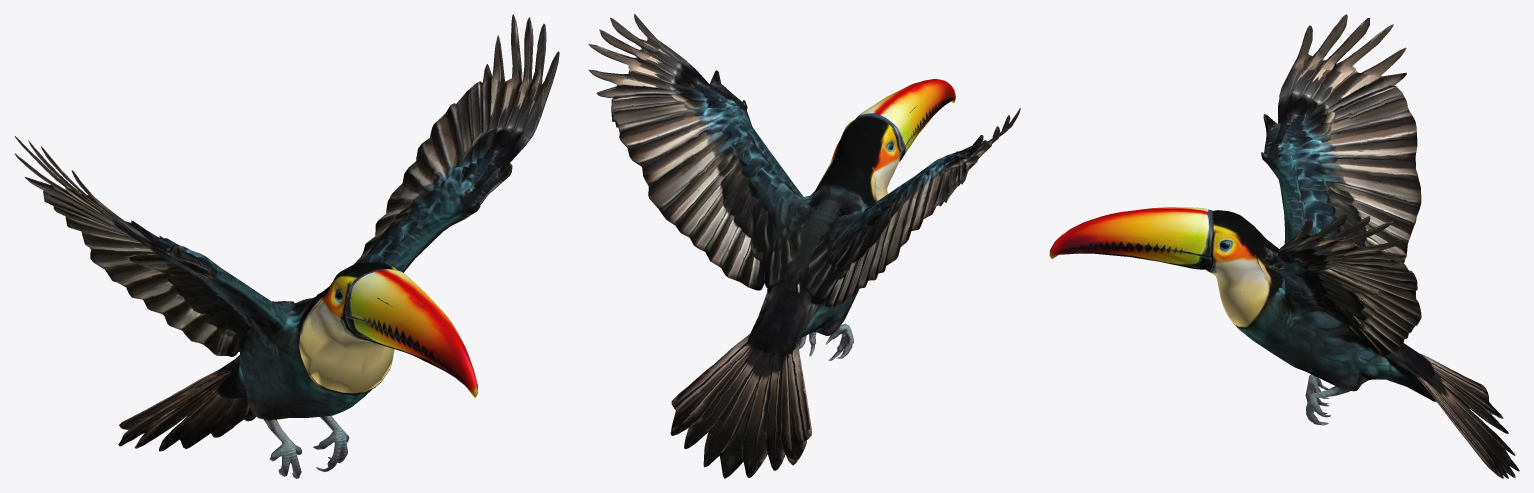
The model's file is toco-toucan.glb.
3 renders of one model, left to right at view 1: azimuth 30°, elevation 25°; view 2: azimuth 150°, elevation 25°; view 3: azimuth 270°, elevation 25°, orthographic. The views are drawn at different scales.
Parts seen in each view (by area): view 1: Object_4; view 2: Object_4; view 3: Object_4.
Boxes of the visible parts, x1,y1,x2,y2 form: Object_4: [14, 14, 559, 478]; Object_4: [588, 14, 1020, 478]; Object_4: [1049, 14, 1519, 478].
Bounding box in the file's own units: 0.7971 × 0.6696 × 0.7968.
Materials: 1 (1 with a texture image).
